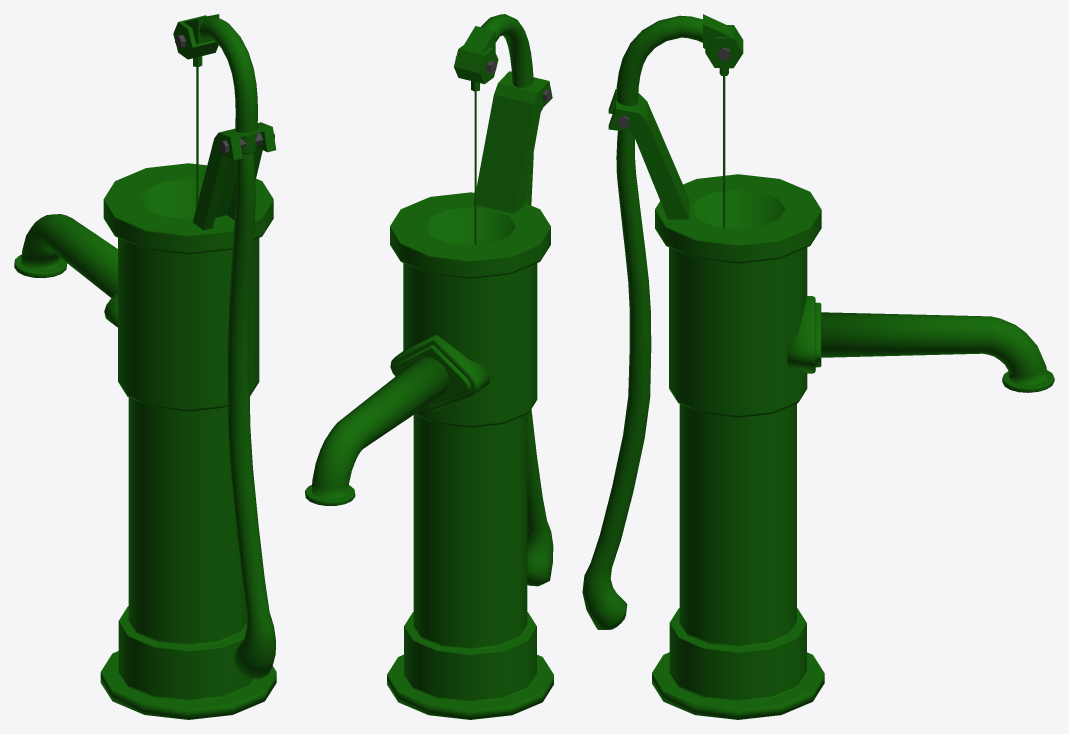
3 views of the same model, side by side, from view 1: azimuth 30°, elevation 25°; view 2: azimuth 150°, elevation 25°; view 3: azimuth 270°, elevation 25° (orthographic). The views are drawn at different scales.
Visible parts, largest first — view 1: water_pump; view 2: water_pump; view 3: water_pump.
Boxes of the visible parts, left/top/right/bottom form: water_pump: left=14, top=14, right=276, bottom=719; water_pump: left=305, top=14, right=553, bottom=719; water_pump: left=582, top=14, right=1054, bottom=719.
Size of the model in its own units: 0.628 by 2.68 by 1.72.
Materials: 1 (1 with a texture image).
